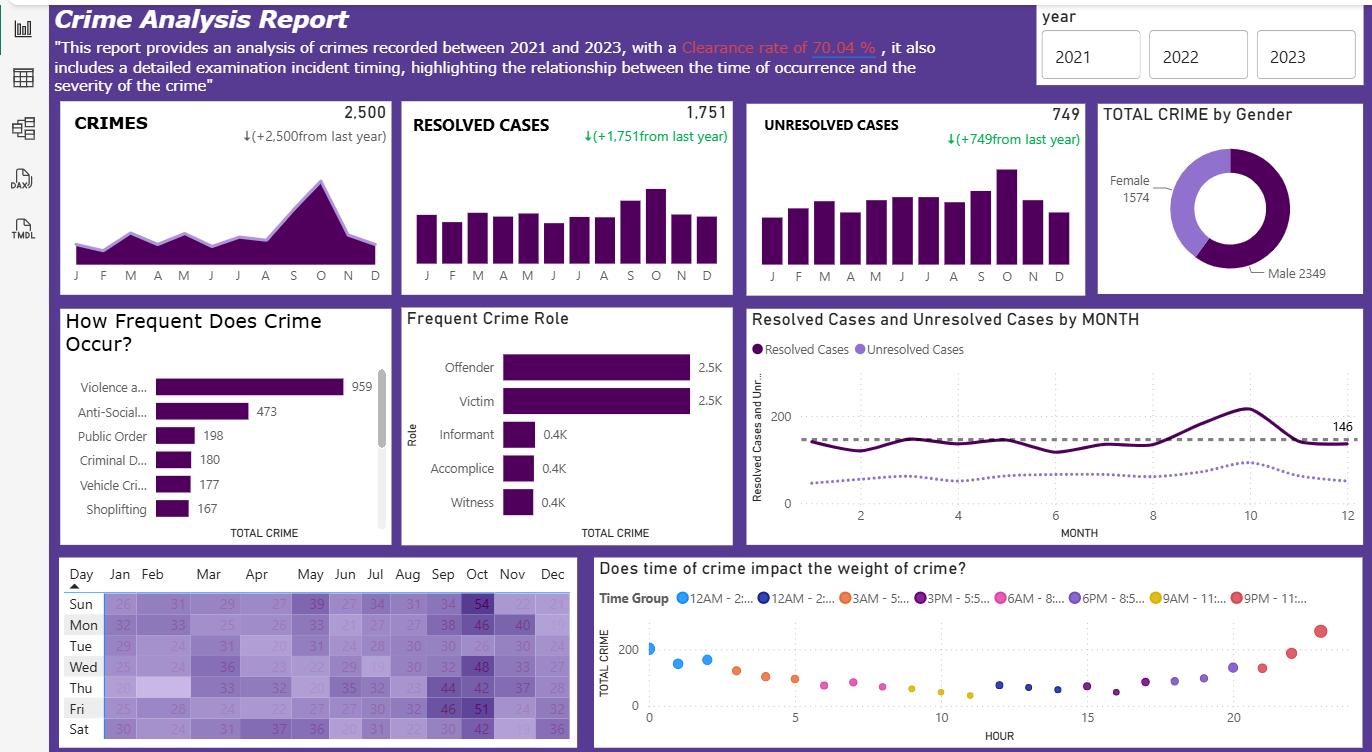

This screenshot's page, from the dashboard's own definition file:
{"tool":"powerbi","page":{"name":"Page 1","canvas":[1280,720],"ordinal":0},"visuals":[{"type":"donutChart","fields":{"Y":["DAX.TOTAL CRIME"],"Category":["People.Gender"]},"box":[1005.9,94.1,254.4,182.4],"z":0},{"type":"barChart","title":"How Frequent Does Crime Occur?","fields":{"Y":["DAX.TOTAL CRIME"],"Category":["Crime Types.Crime"]},"box":[10.3,291.2,317.6,226.5],"z":1000},{"type":"barChart","title":"Frequent Crime Role","fields":{"Category":["Crime Roles.Role"],"Y":["DAX.TOTAL CRIME"]},"box":[338.2,289.7,317.6,227.9],"z":2000},{"type":"lineChart","fields":{"Y":["DAX.Resolved Cases","DAX.Unresolved Cases"],"Category":["Date_table.year Hierarchy.Monthname","Date_table.year Hierarchy.year","Date_table.year Hierarchy.Date","Date_table.year Hierarchy.Day","Date_table.year Hierarchy.MONTH"]},"box":[669.1,291.2,591.2,226.5],"z":3000},{"type":"scatterChart","title":"Does time of crime impact the weight of crime?","fields":{"X":["Crimes.HOUR"],"Y":["DAX.TOTAL CRIME"],"Series":["Crimes.Time Group"],"Size":["Sum(Crime Person.People Involved)"]},"box":[522.5,529.7,737.1,182.2],"z":4000},{"type":"pivotTable","fields":{"Values":["DAX.TOTAL CRIME"],"Rows":["Date_table.Day"],"Columns":["Date_table.Monthname"]},"box":[10,529.9,497,182.6],"z":5000},{"type":"lineChart","fields":{"Y":["DAX.TOTAL CRIME"],"Category":["Date_table.Month letter"]},"box":[10.3,92.6,317.6,185.3],"z":6000},{"type":"clusteredColumnChart","fields":{"Category":["Date_table.Month letter"],"Y":["DAX.Resolved Cases"]},"box":[338.2,92.6,317.6,185.3],"z":7000},{"type":"clusteredColumnChart","fields":{"Category":["Date_table.Month letter"],"Y":["DAX.Unresolved Cases"]},"box":[669.1,94.1,325,183.8],"z":8000},{"type":"advancedSlicerVisual","fields":{"Values":["Date_table.year"]},"box":[947.1,0,313.2,76.5],"z":9000},{"type":"textbox","title":"Crime Analysis Report","box":[0,0,875,92.5],"z":10000},{"type":"textbox","box":[19.6,98.2,149.7,52.8],"z":11000},{"type":"textbox","box":[343.4,98.1,154.4,53.4],"z":12000},{"type":"textbox","box":[681,101,163,46.2],"z":13000}]}

Visuals, with their boxes on the page's 1280x720 design canvas (x1, y1, x2, y2). These are canvas units, not pixel positions in the 1372x752 screenshot, which may show the page scaled, cropped or inside an application window:
donutChart - DAX.TOTAL CRIME x People.Gender: 1006:94:1260:276
"How Frequent Does Crime Occur?" barChart: 10:291:328:518
"Frequent Crime Role" barChart: 338:290:656:518
lineChart - DAX.Resolved Cases x DAX.Unresolved Cases: 669:291:1260:518
"Does time of crime impact the weight of crime?" scatterChart: 522:530:1260:712
pivotTable - DAX.TOTAL CRIME x Date_table.Day: 10:530:507:712
lineChart - DAX.TOTAL CRIME x Date_table.Month letter: 10:93:328:278
clusteredColumnChart - Date_table.Month letter x DAX.Resolved Cases: 338:93:656:278
clusteredColumnChart - Date_table.Month letter x DAX.Unresolved Cases: 669:94:994:278
advancedSlicerVisual - Date_table.year: 947:0:1260:76
"Crime Analysis Report" textbox: 0:0:875:92
textbox: 20:98:169:151
textbox: 343:98:498:152
textbox: 681:101:844:147
